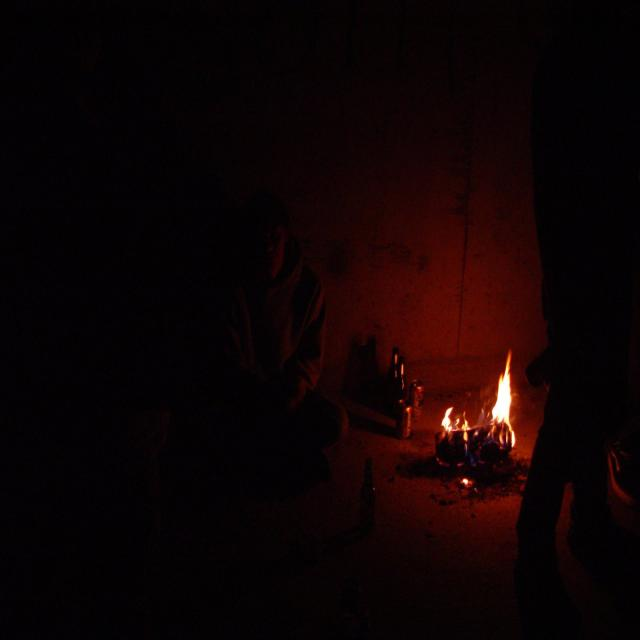Bottle: (362, 442, 393, 558), (376, 322, 410, 407), (398, 354, 425, 440)
People: (510, 0, 640, 640), (185, 162, 341, 484)
